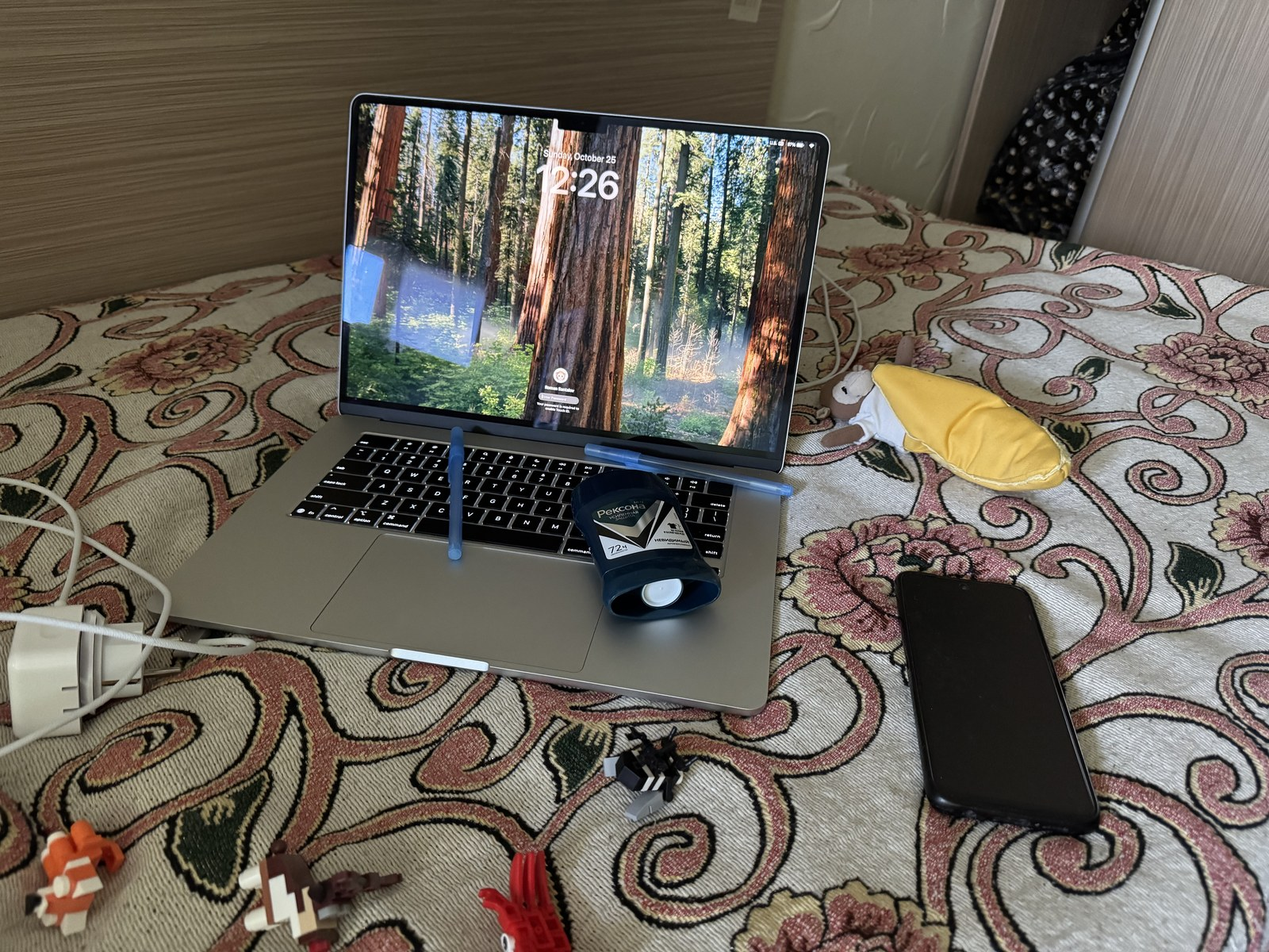cell phone: (895, 569, 1100, 835)
laptop: (141, 91, 831, 715)
